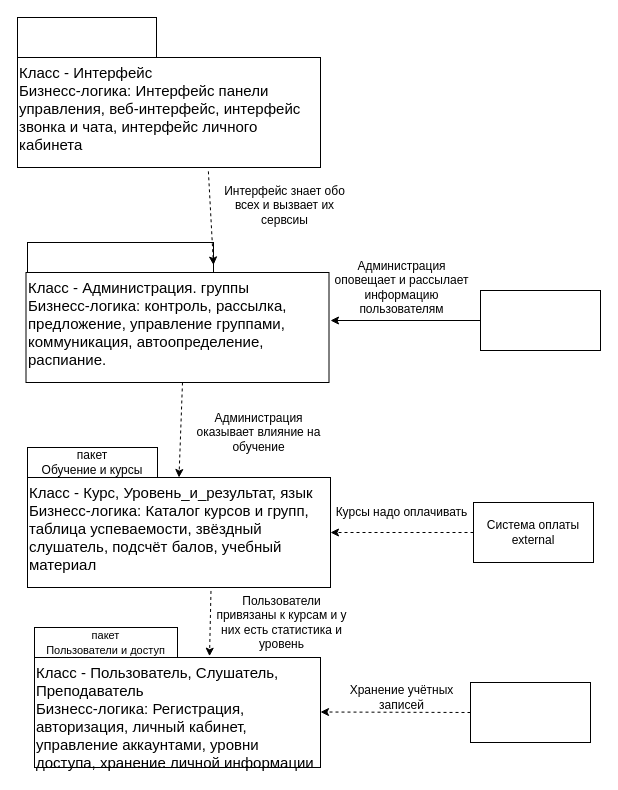
This 618x790 diagram has some shape labels left out. Each missing label, with the box of its shape:
БД external: (470, 682, 590, 742)
пакет интерфейса: (16, 16, 156, 58)
пакет организации и администрации: (26, 242, 214, 272)
Сервис электронной почты и смс external: (480, 290, 600, 350)
